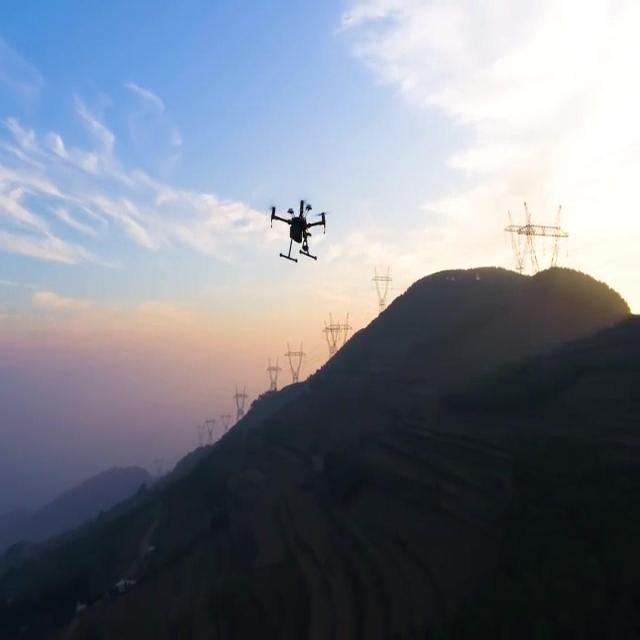drone: (268, 194, 330, 266)
